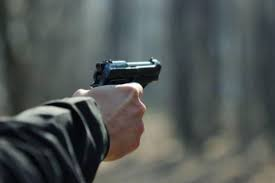Arma Real: (89, 56, 165, 96)
